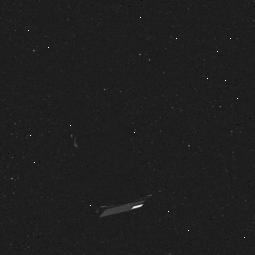proba_3_csc: (73, 128, 159, 226)
